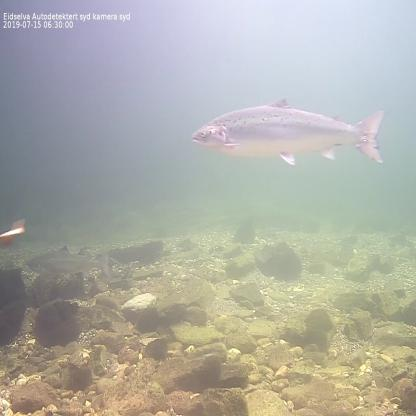salmon: (186, 93, 388, 170), (24, 242, 112, 283)
